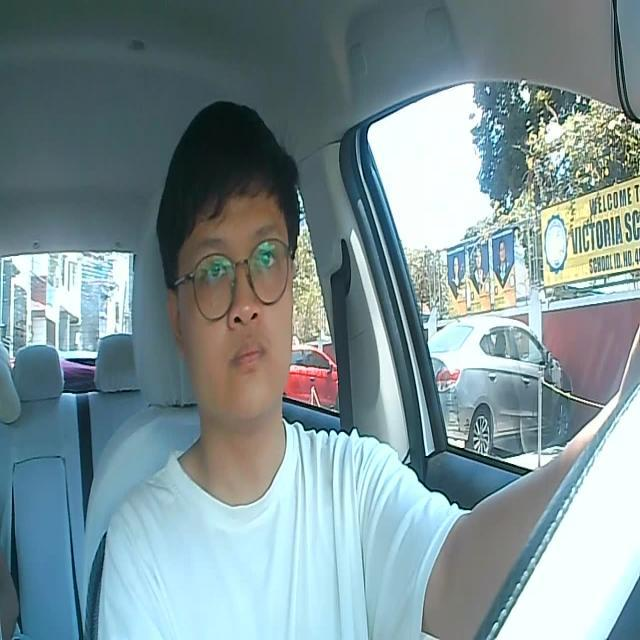Attentive: (155, 102, 304, 424)
Eye-Open: (200, 256, 232, 282), (254, 248, 277, 270)
Normal: (230, 338, 267, 373)
